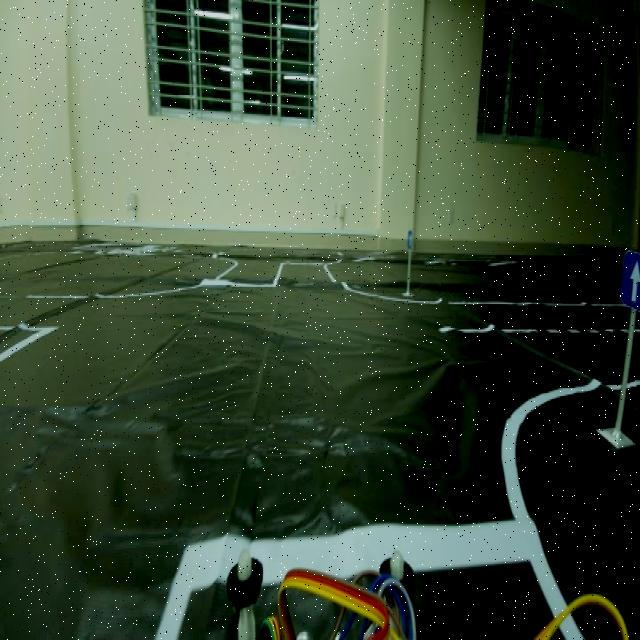onewayroad: (620, 244, 638, 306)
